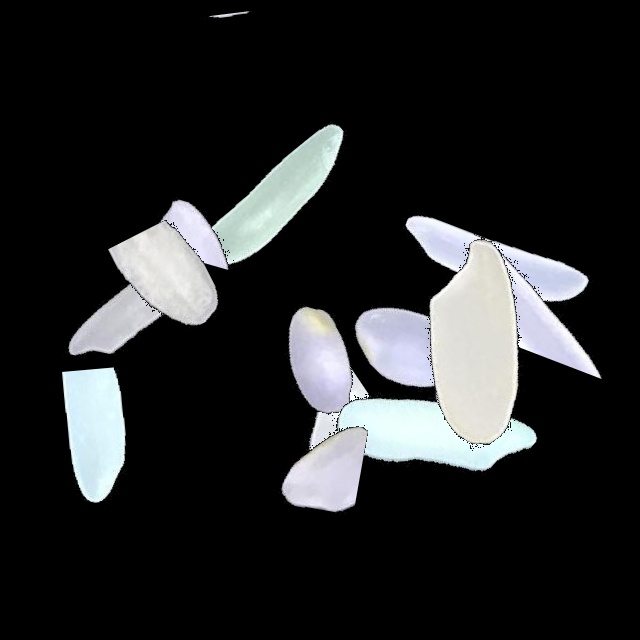Broken: (99, 179, 264, 429), (17, 325, 181, 575), (231, 318, 386, 568), (474, 153, 626, 403), (162, 383, 412, 533), (146, 73, 272, 323), (136, 10, 386, 91)
Full: (152, 76, 402, 326), (369, 137, 619, 387), (339, 256, 589, 506), (284, 219, 534, 469), (11, 174, 261, 424), (196, 237, 446, 487), (307, 305, 557, 555), (355, 219, 605, 469)
